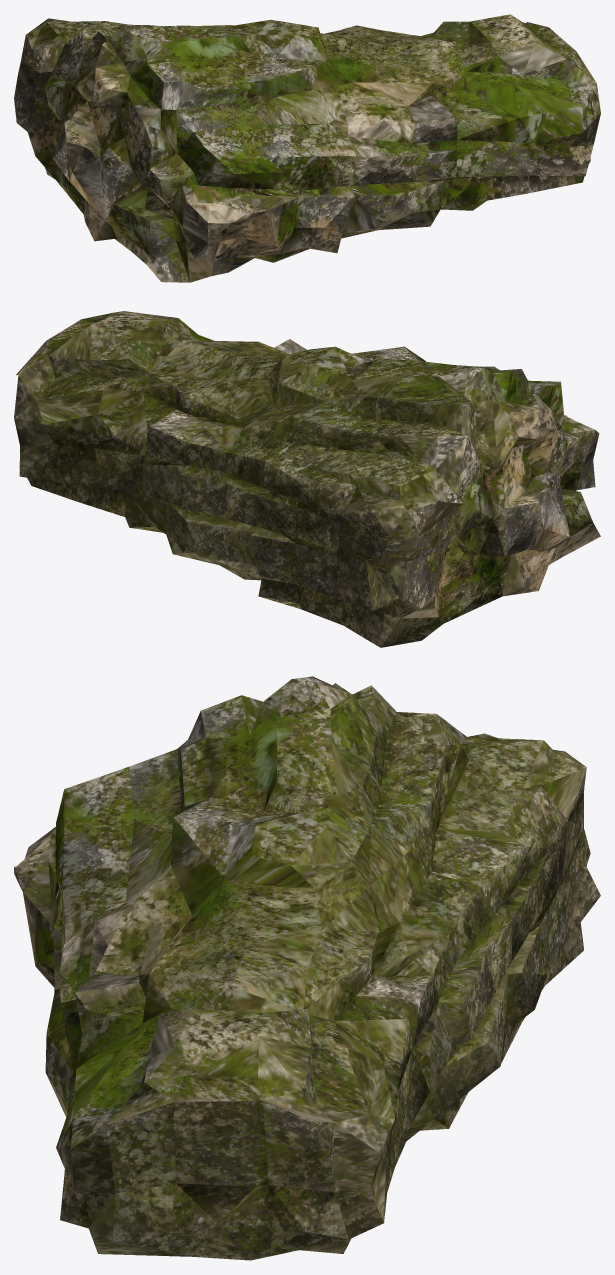
File: ROC_RocaMusgo_02_LOD2.fbx
3 views of the same model, one above another, from view 1: azimuth 30°, elevation 25°; view 2: azimuth 150°, elevation 25°; view 3: azimuth 270°, elevation 25° (orthographic). The views are drawn at different scales.
Parts seen in each view (by area): view 1: ROC_RocaMusgo_02_Mesh000; view 2: ROC_RocaMusgo_02_Mesh000; view 3: ROC_RocaMusgo_02_Mesh000.
Part boxes in pixels (bbox=[...]): ROC_RocaMusgo_02_Mesh000: bbox=[14, 14, 600, 282]; ROC_RocaMusgo_02_Mesh000: bbox=[14, 311, 600, 647]; ROC_RocaMusgo_02_Mesh000: bbox=[14, 676, 600, 1260].
Size of the model in its own units: 3.2 by 1.28 by 2.3.
